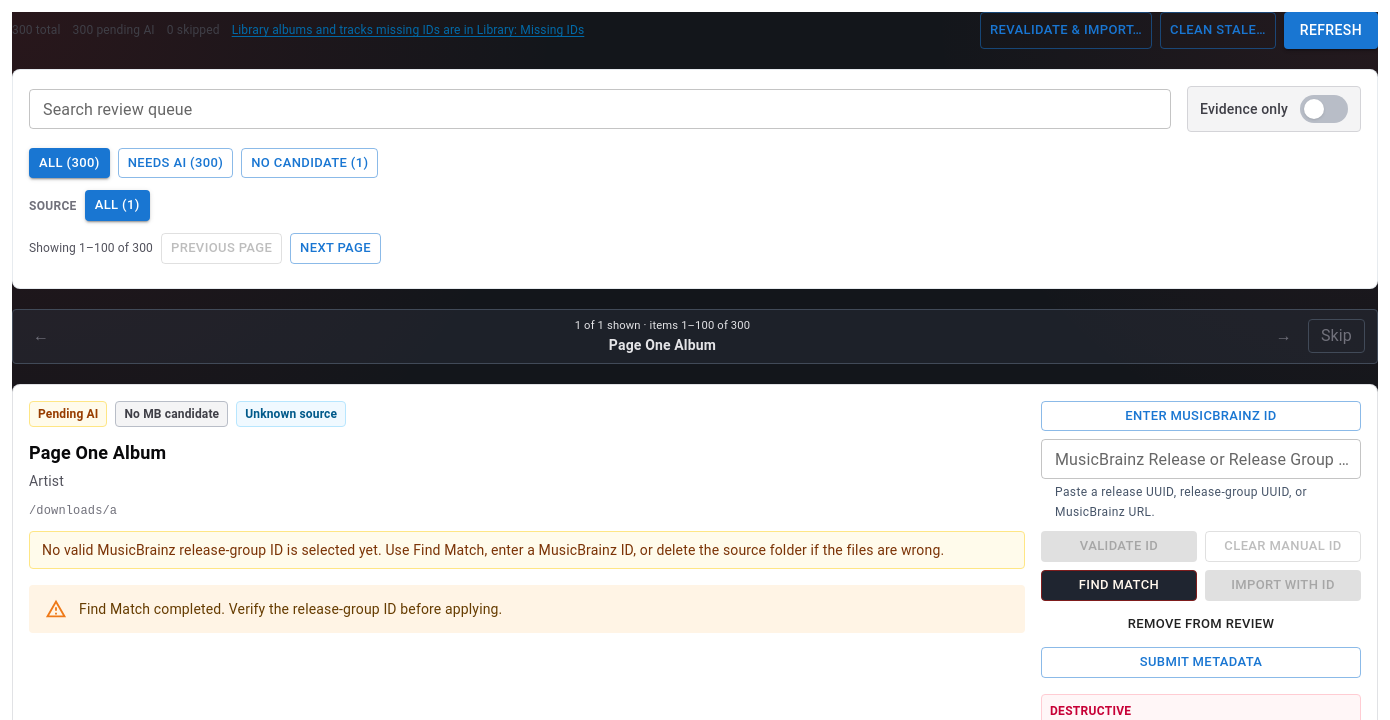
Test: QA #395: Review Queue › an older, slower response never replaces the newer page
What coordinates should you click on to do the following:
click the button "Next page"
I would click on:
 (336, 248)
Its box is [290,233,381,264].
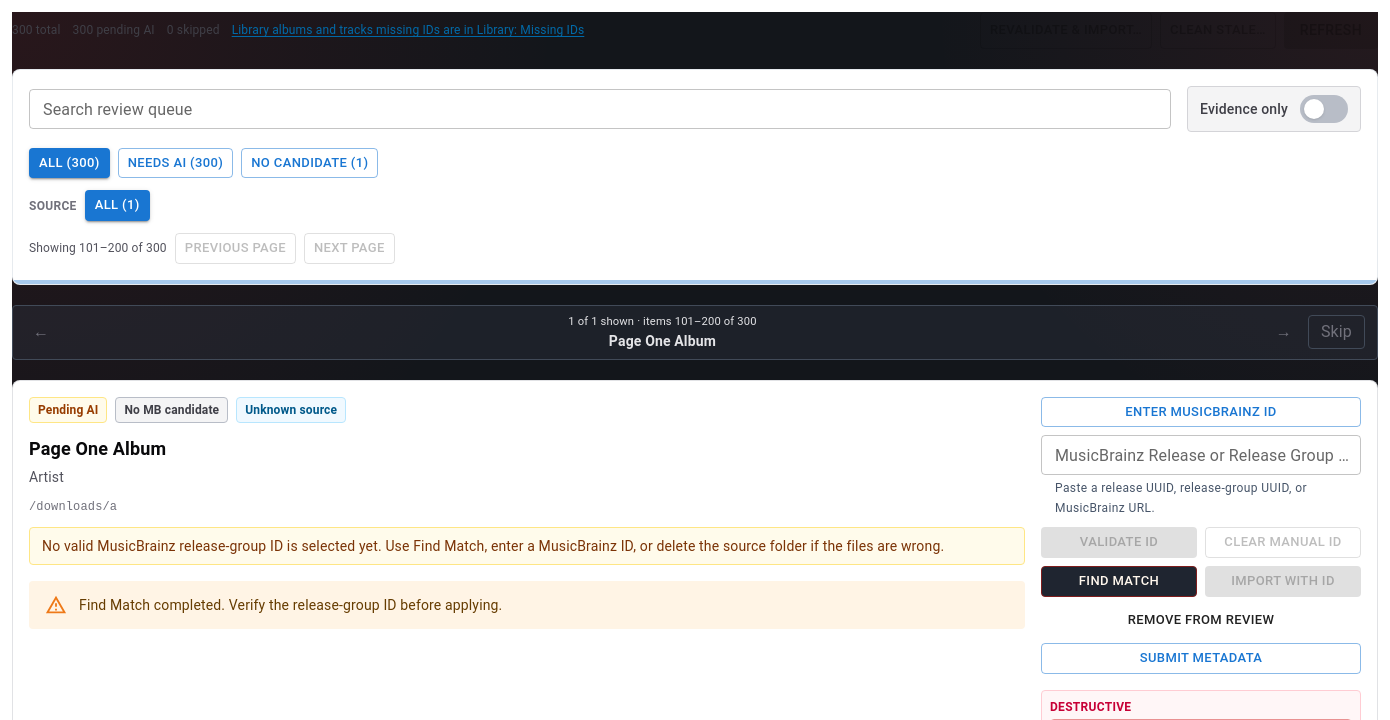
Note: Change a filter while the page-2 request is still in flight.
What coordinates should you click on to do the following:
click the switch
I would click on:
 (1324, 108)
Its box is [1300,94,1348,122].
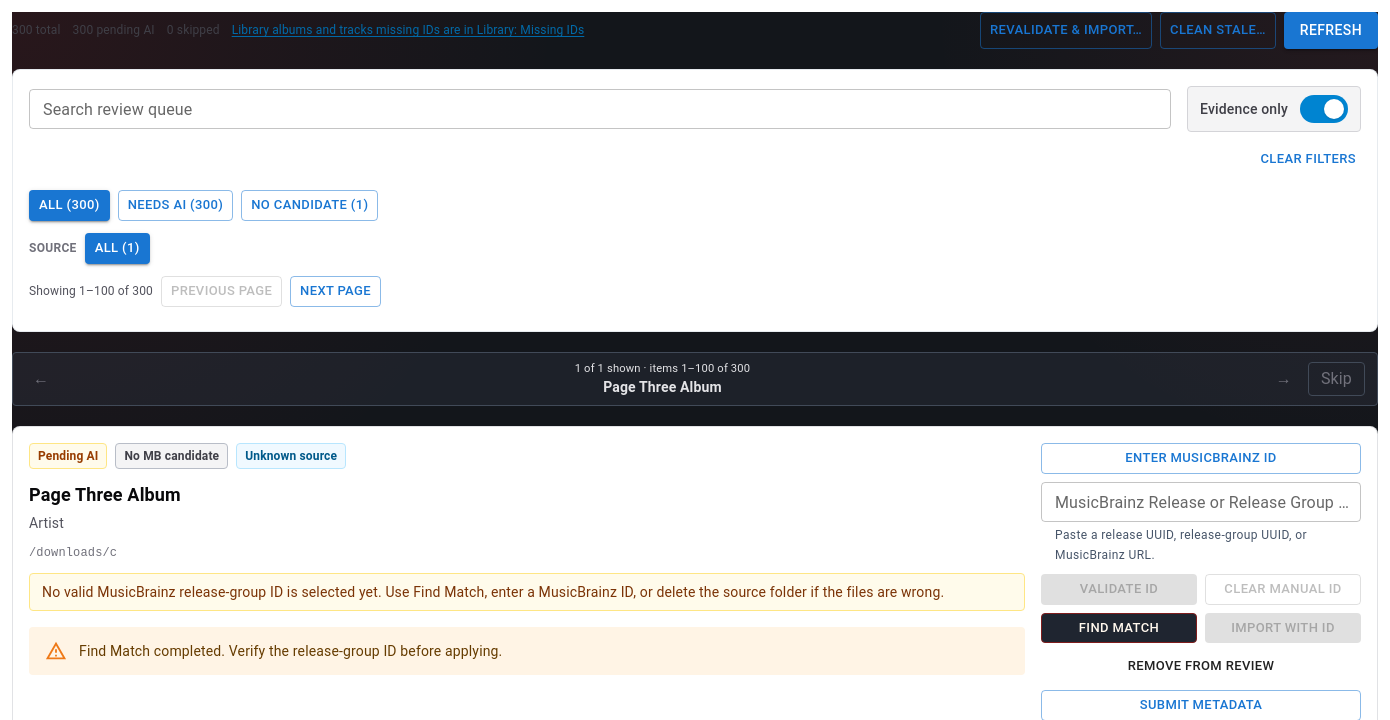
Expected: the text "Page Three Album" is shown, [603,379,722,395]
